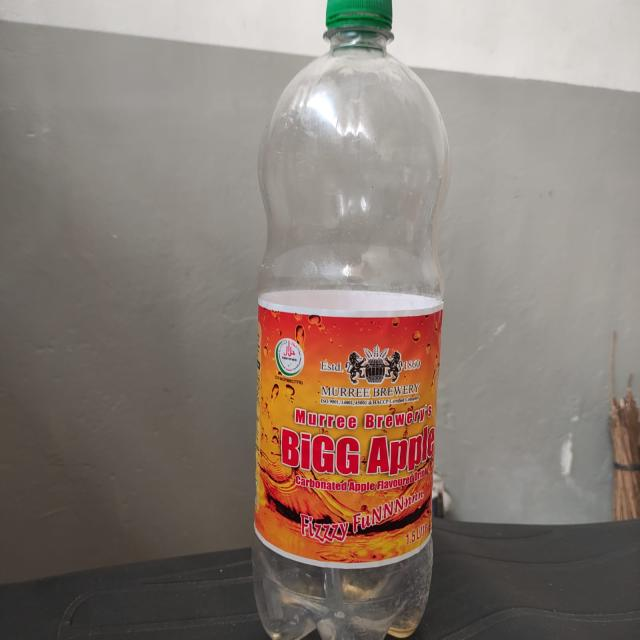bottle: (254, 0, 442, 640)
cap: (330, 0, 392, 50)
label: (262, 304, 442, 562)
